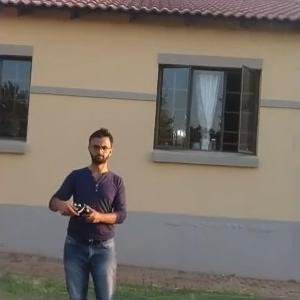follow: (42, 117, 132, 298)
